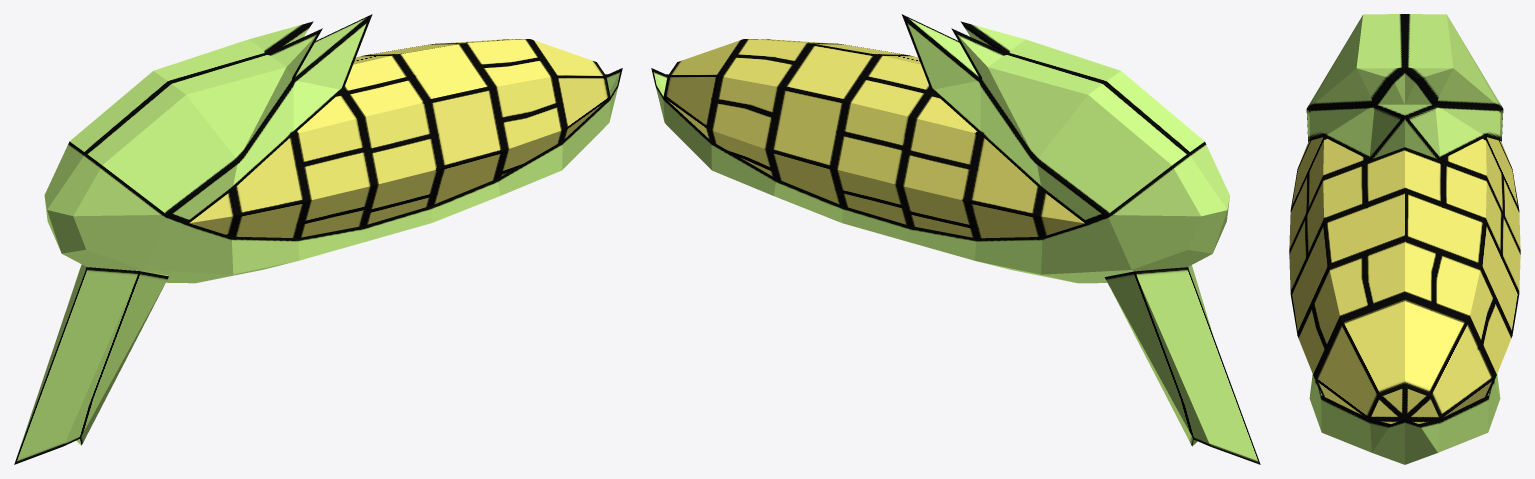
The model's file is Corn.fbx.
3 views of the same model, side by side, from view 1: azimuth 30°, elevation 25°; view 2: azimuth 150°, elevation 25°; view 3: azimuth 270°, elevation 25° (orthographic). The views are drawn at different scales.
Parts seen in each view (by area): view 1: Husk, Corn, Handle; view 2: Husk, Corn, Handle; view 3: Corn, Husk.
Part boxes in pixels (x1=…): Husk: x1=44, y1=14, x2=622, y2=283; Corn: x1=189, y1=39, x2=610, y2=238; Handle: x1=14, y1=264, x2=168, y2=464; Husk: x1=651, y1=14, x2=1229, y2=283; Corn: x1=663, y1=39, x2=1084, y2=238; Handle: x1=1104, y1=265, x2=1260, y2=464; Corn: x1=1289, y1=137, x2=1520, y2=423; Husk: x1=1306, y1=14, x2=1503, y2=464.
Size of the model in its own units: 3.36 by 1.93 by 0.865.
Materials: 4 (4 with a texture image).
